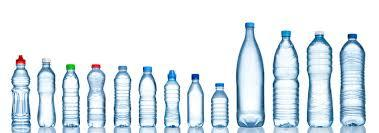Plastic bottle: (234, 21, 264, 126), (304, 28, 334, 128), (337, 28, 367, 126), (274, 27, 298, 128), (10, 51, 30, 130), (83, 61, 106, 128), (36, 54, 56, 130), (110, 62, 130, 128), (61, 60, 80, 128), (136, 62, 155, 130), (162, 66, 182, 128), (187, 71, 202, 129), (210, 78, 228, 125)
